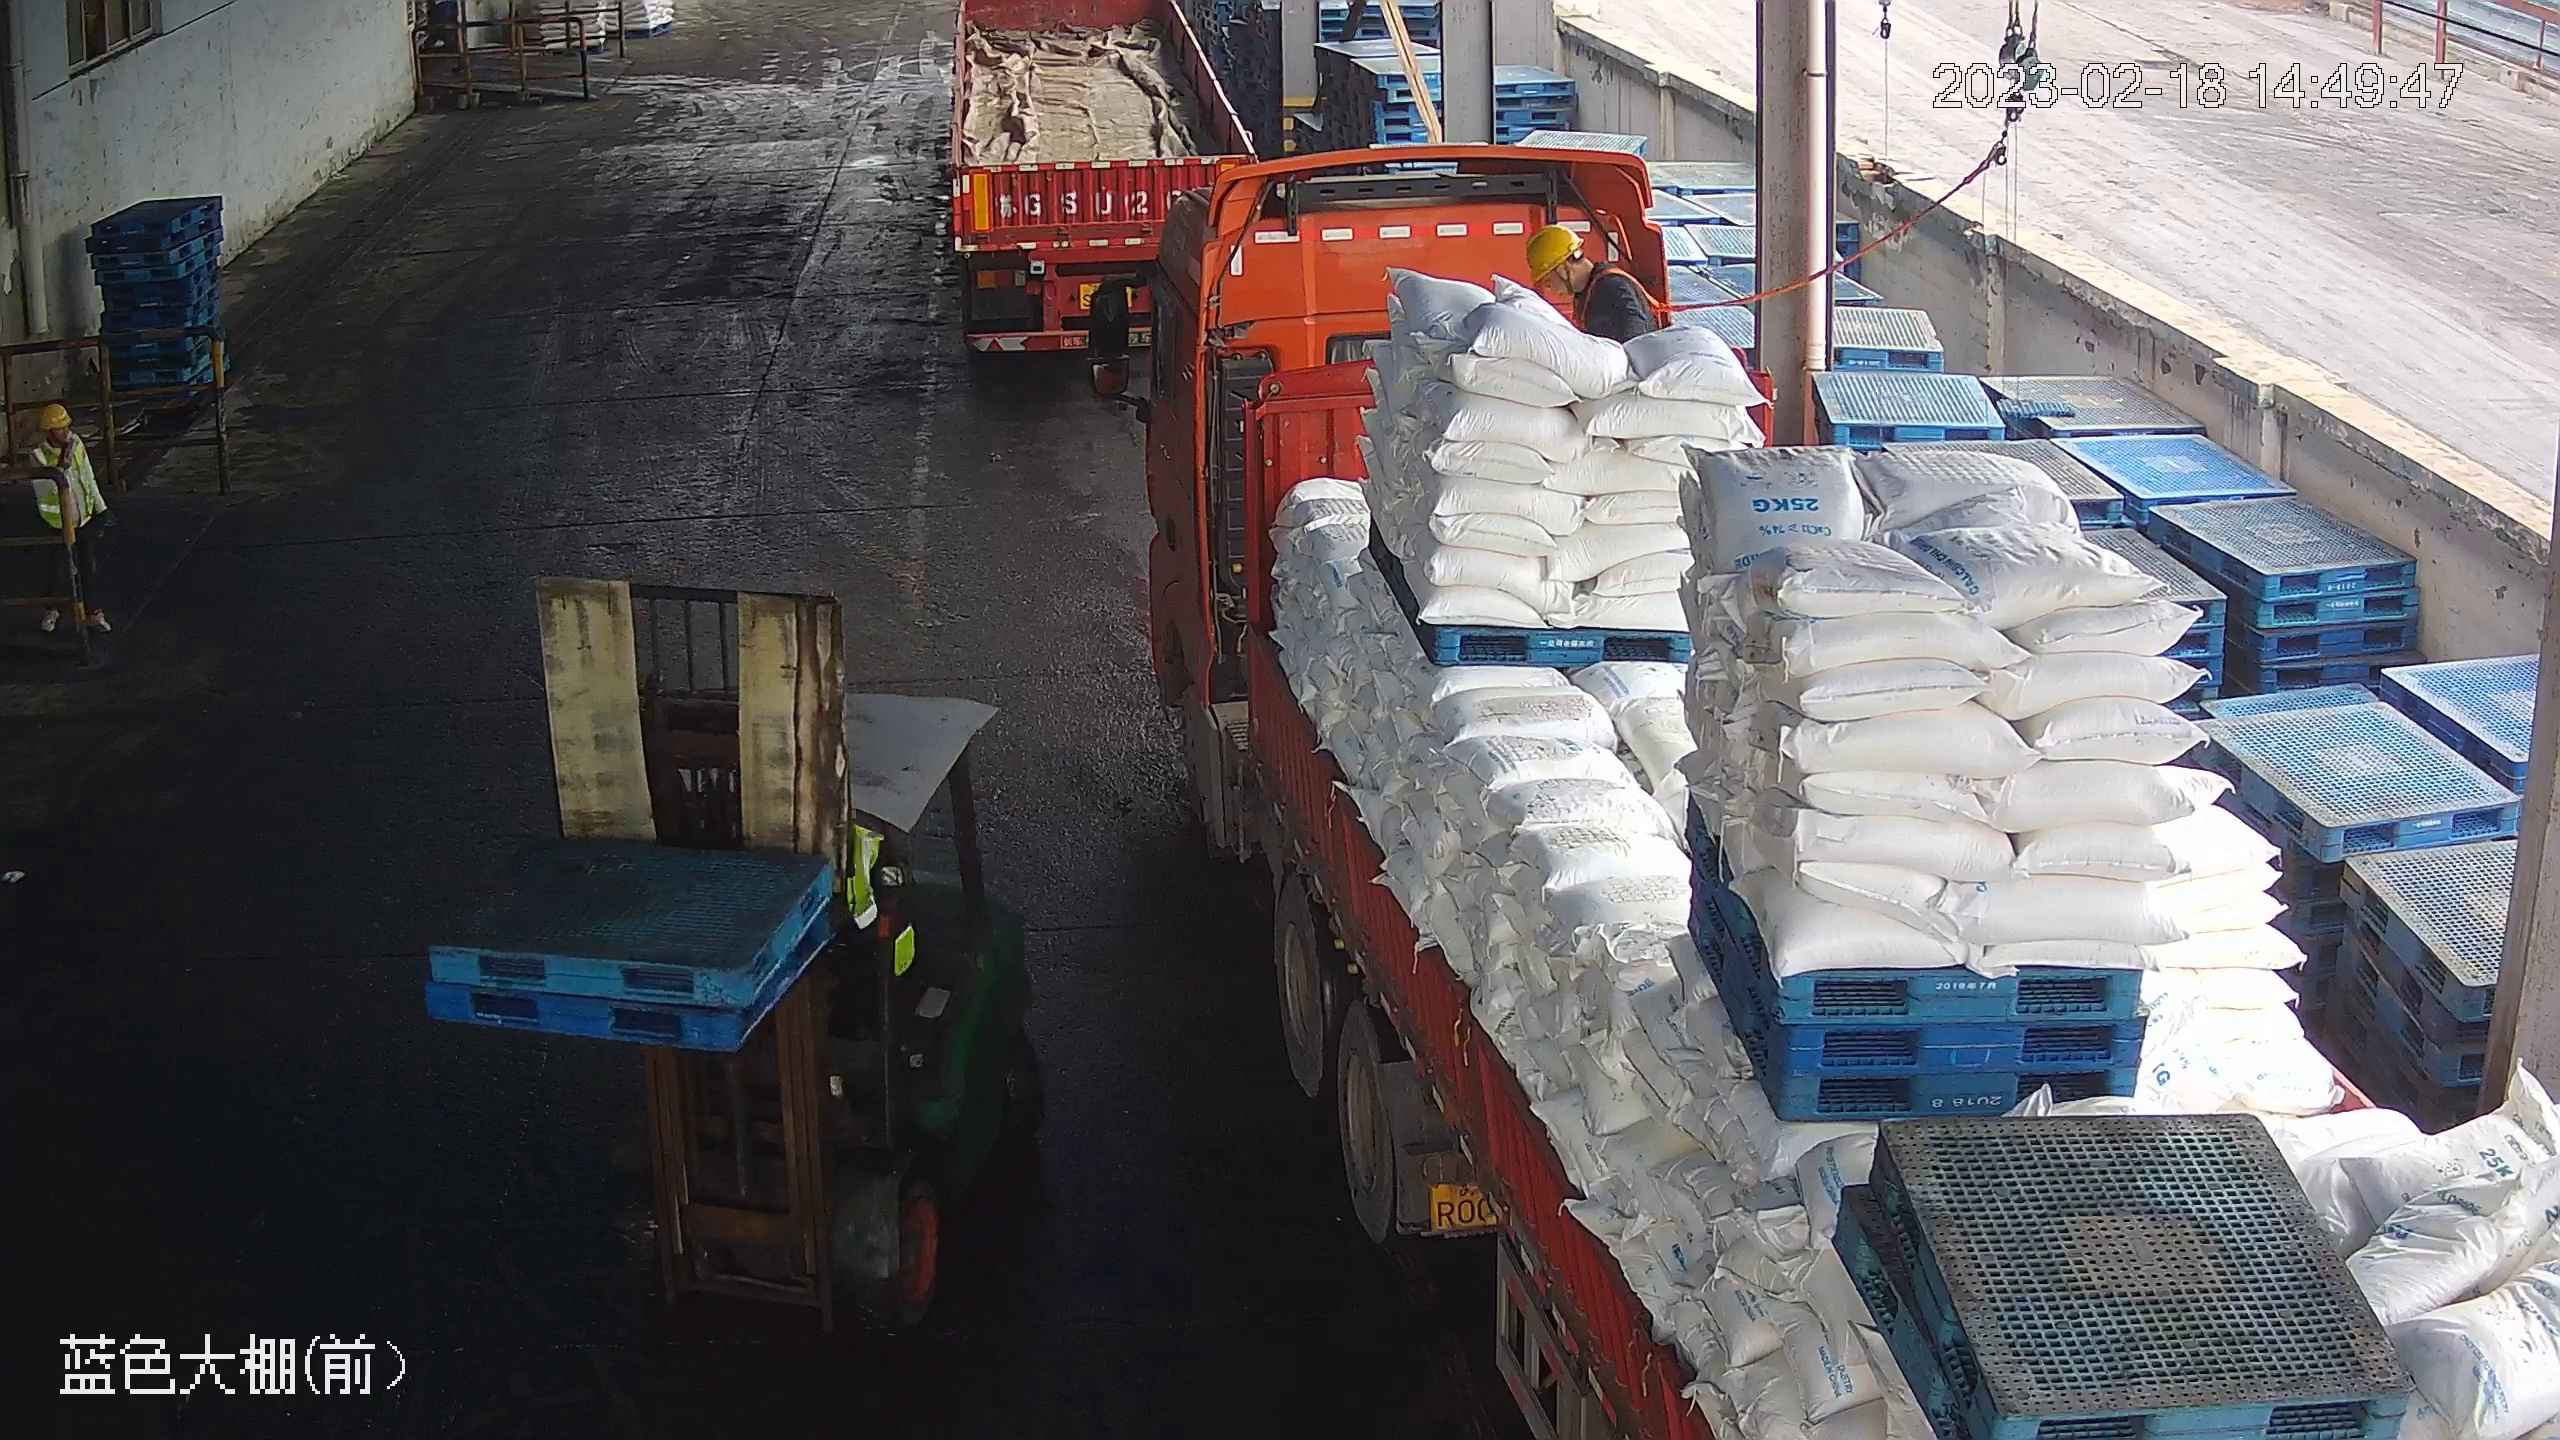belt: (1587, 258, 1663, 325)
head: (1524, 223, 1646, 320), (33, 403, 93, 472)
helmet: (1522, 221, 1581, 279), (39, 402, 72, 427)
people: (25, 397, 111, 649)
truck: (1156, 124, 2552, 1439), (944, 1, 1260, 367)
